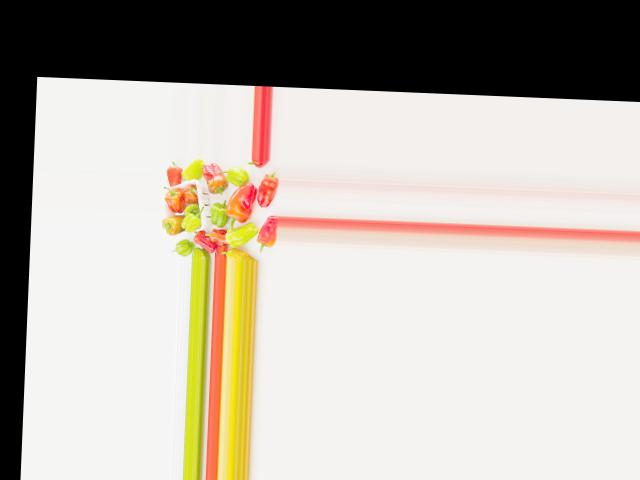bell_pepper: (253, 219, 278, 253)
